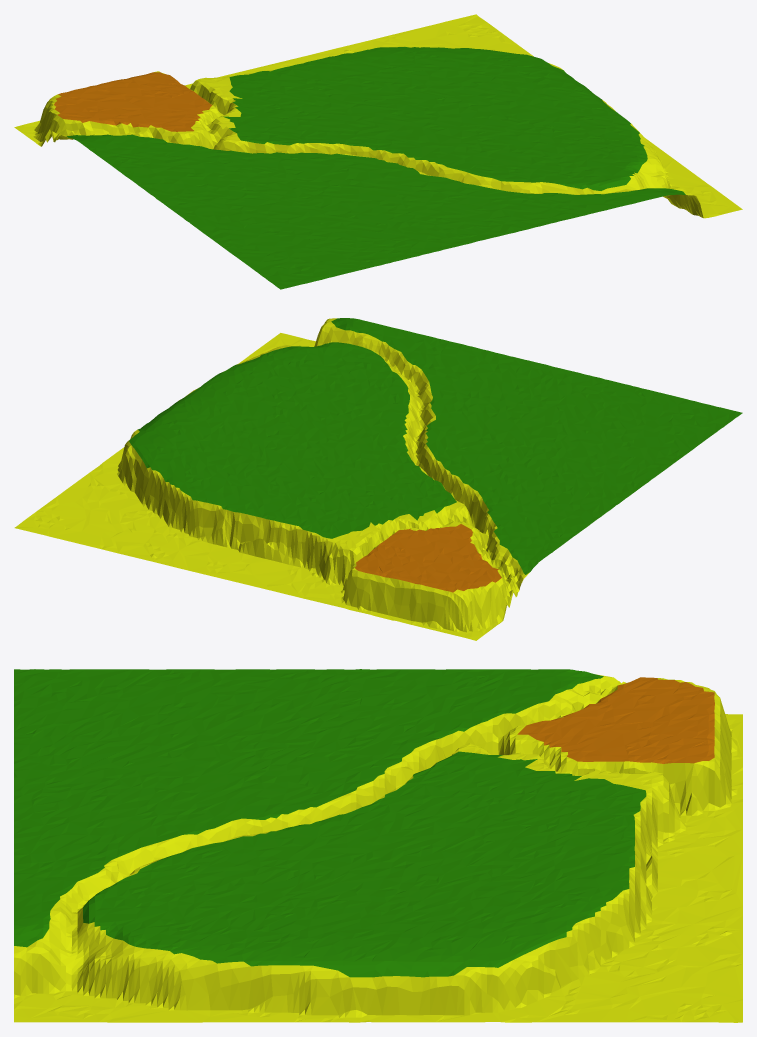
The picture shows the model from 3 angles, top to bottom: view 1: azimuth 30°, elevation 25°; view 2: azimuth 150°, elevation 25°; view 3: azimuth 270°, elevation 25°; orthographic projection. The views are drawn at different scales.
Parts seen in each view (by area): view 1: TerrainVeryHigh.003; view 2: TerrainVeryHigh.003; view 3: TerrainVeryHigh.003.
Part boxes in pixels (x1=…): TerrainVeryHigh.003: x1=14, y1=14, x2=742, y2=289; TerrainVeryHigh.003: x1=14, y1=318, x2=742, y2=640; TerrainVeryHigh.003: x1=14, y1=669, x2=742, y2=1022.
Size of the model in its own units: 1253 by 1252 by 86.6.
